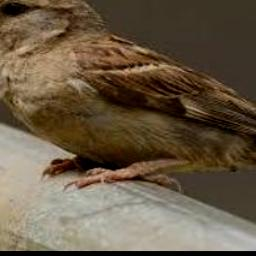Sparrow: (0, 0, 256, 190)
